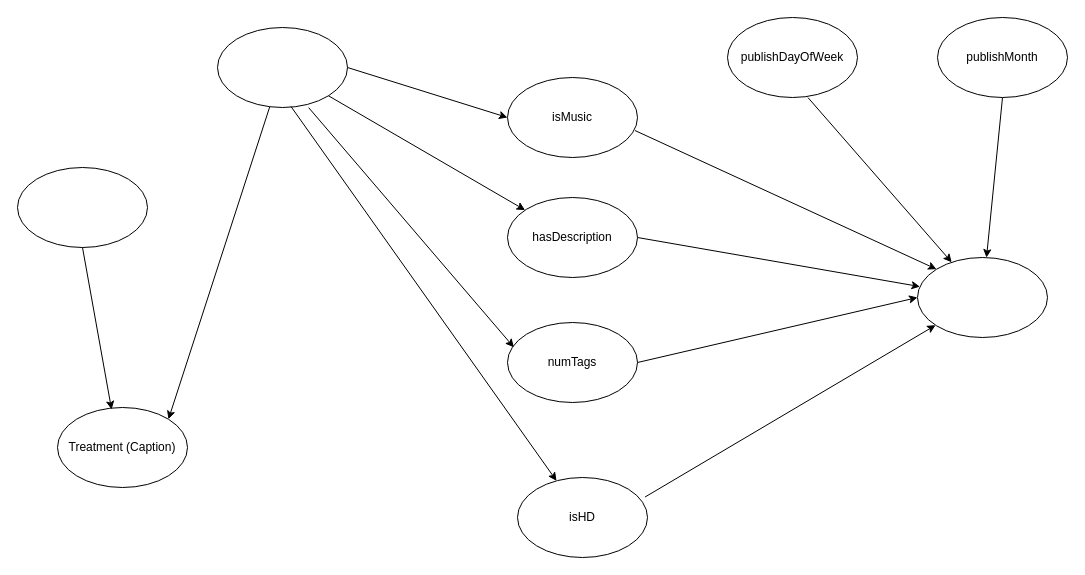
This 1085x575 diagram has some shape labels left out. Here are the shapes that lost their labels. From the top down, the box of each, then its label:
(216, 26, 348, 108): LicensedContent
(16, 166, 148, 248): publishYear
(916, 256, 1048, 338): Effect (Popular)
